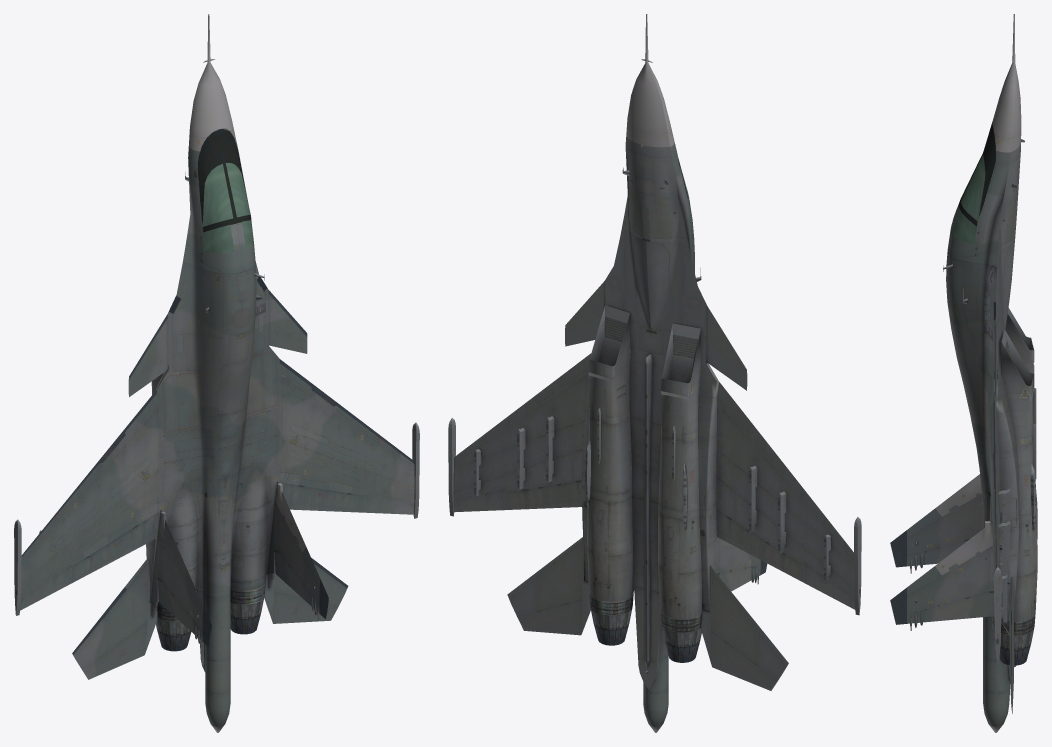
3 views of the same model, side by side, from view 1: azimuth 30°, elevation 25°; view 2: azimuth 150°, elevation 25°; view 3: azimuth 270°, elevation 25° (orthographic).
Parts seen in each view (by area): view 1: LOD0, ElevatorL01, Glass01, ElevatorR01, FlapL01, FlapR01, Canopy01, CanardL01, BrakeL01, CanardR01, RudderL01, RudderR01; view 2: LOD0, ElevatorL01, ElevatorR01, GearDoorR01, FlapL01, GearDoorF02, FlapR01, CanardL01, CanardR01, GearDoorF03; view 3: LOD0, GearDoorL01, Glass01, RudderR01, Canopy01, ElevatorR01, GearDoorF03, RudderL01, EngineR01, CanardR01.
Part boxes in pixels (box(x1,y1,x2,y2)): LOD0: box(14, 14, 419, 732); ElevatorL01: box(72, 557, 157, 679); Glass01: box(202, 163, 253, 253); ElevatorR01: box(264, 558, 348, 623); FlapL01: box(71, 513, 157, 583); FlapR01: box(282, 483, 363, 512); Canopy01: box(201, 217, 255, 273); CanardL01: box(128, 314, 168, 396); BrakeL01: box(222, 335, 250, 414); CanardR01: box(268, 290, 307, 353); RudderL01: box(157, 578, 194, 634); RudderR01: box(274, 550, 311, 605); LOD0: box(448, 14, 861, 732); ElevatorL01: box(701, 566, 788, 690); ElevatorR01: box(507, 537, 590, 635); GearDoorR01: box(698, 395, 721, 516); FlapL01: box(716, 510, 802, 581); GearDoorF02: box(646, 241, 669, 330); FlapR01: box(506, 480, 581, 509); CanardL01: box(706, 306, 747, 390); CanardR01: box(565, 281, 604, 346); GearDoorF03: box(633, 237, 650, 327); LOD0: box(890, 14, 1037, 732); GearDoorL01: box(998, 407, 1019, 522); Glass01: box(951, 155, 985, 244); RudderR01: box(925, 591, 994, 622); Canopy01: box(947, 201, 979, 262); ElevatorR01: box(1001, 576, 1014, 713); GearDoorF03: box(1003, 240, 1014, 333); RudderL01: box(925, 540, 968, 564); EngineR01: box(999, 645, 1030, 665); CanardR01: box(994, 323, 997, 415).
Bounding box in the file's own units: 13.89 × 23.51 × 4.38.
4 materials, 4 textured.
